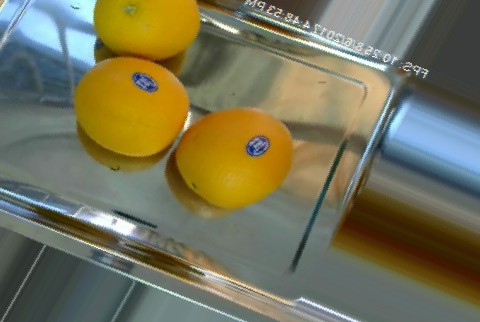Orange: (175, 106, 295, 207), (73, 55, 190, 158), (91, 1, 202, 59)
